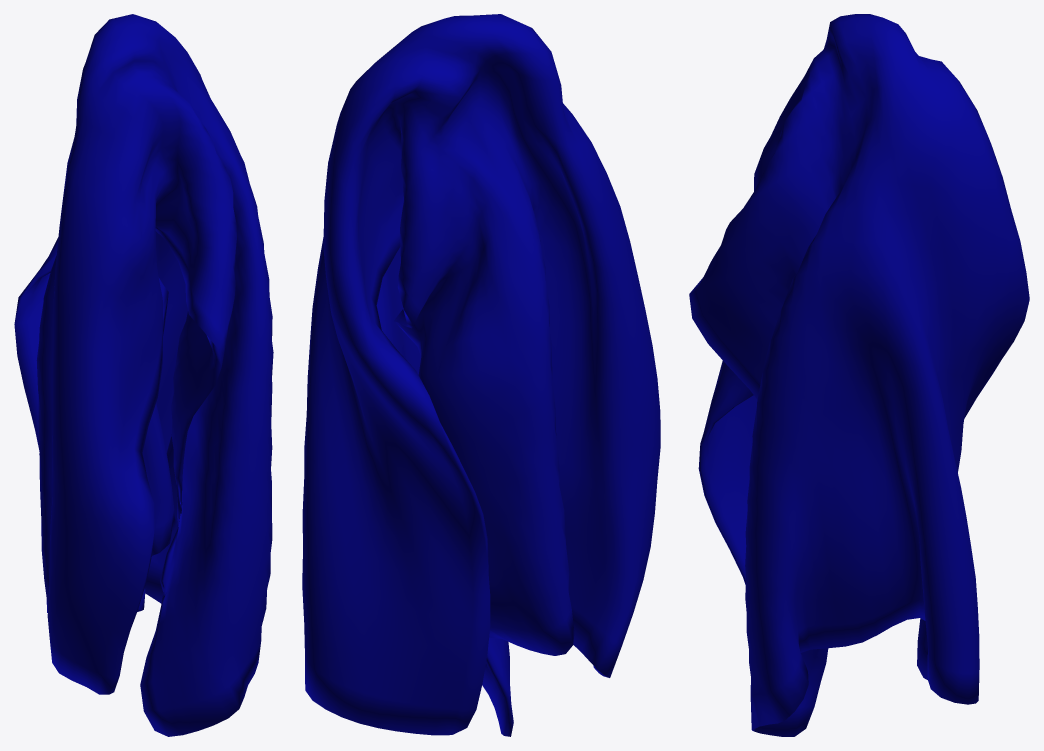
The model's file is Kain2.fbx.
The picture shows the model from 3 angles, left to right: view 1: azimuth 30°, elevation 25°; view 2: azimuth 150°, elevation 25°; view 3: azimuth 270°, elevation 25°; orthographic projection. The views are drawn at different scales.
Parts seen in each view (by area): view 1: Kain2_LOD0; view 2: Kain2_LOD0; view 3: Kain2_LOD0.
Boxes of the visible parts, x1=… form: Kain2_LOD0: x1=14, y1=14, x2=273, y2=736; Kain2_LOD0: x1=302, y1=14, x2=660, y2=736; Kain2_LOD0: x1=689, y1=14, x2=1029, y2=736.
Size of what is drawn, in the model's own units: 32.02 by 88.68 by 38.57.
